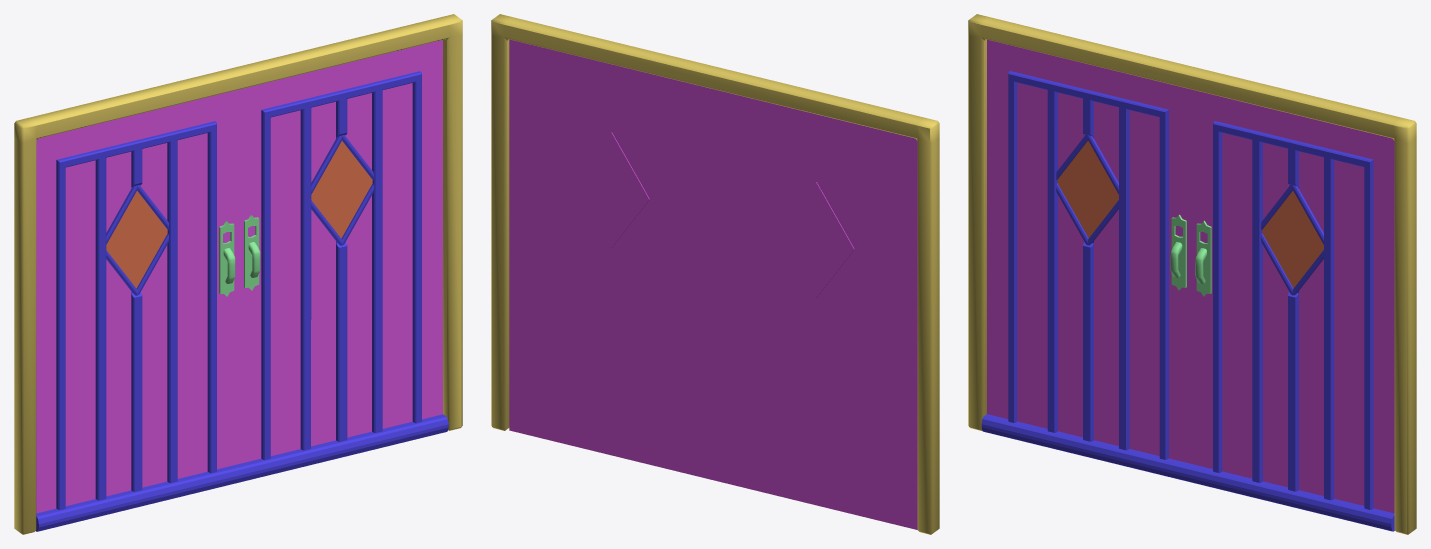
The model's file is Door 1.fbx.
3 views of the same model, side by side, from view 1: azimuth 30°, elevation 25°; view 2: azimuth 150°, elevation 25°; view 3: azimuth 330°, elevation 25° (orthographic).
Visible parts, largest first — view 1: puerta derecha, Puerta izquierda, Marco puerta, Mango izquierdo, Mango derecho; view 2: puerta derecha, Puerta izquierda, Marco puerta; view 3: Puerta izquierda, puerta derecha, Marco puerta, Mango derecho, Mango izquierdo.
Part boxes in pixels (bbox=[...]): puerta derecha: bbox=[238, 40, 448, 481]; Puerta izquierda: bbox=[36, 90, 243, 531]; Marco puerta: bbox=[14, 14, 462, 534]; Mango izquierdo: bbox=[219, 221, 235, 296]; Mango derecho: bbox=[244, 215, 260, 290]; puerta derecha: bbox=[509, 39, 714, 480]; Puerta izquierda: bbox=[714, 89, 917, 529]; Marco puerta: bbox=[491, 14, 939, 534]; Puerta izquierda: bbox=[981, 39, 1191, 481]; puerta derecha: bbox=[1186, 89, 1394, 531]; Marco puerta: bbox=[968, 14, 1416, 534]; Mango derecho: bbox=[1195, 220, 1211, 296]; Mango izquierdo: bbox=[1170, 214, 1186, 290].
Bounding box in the file's own units: 431 × 382 × 18.77.
